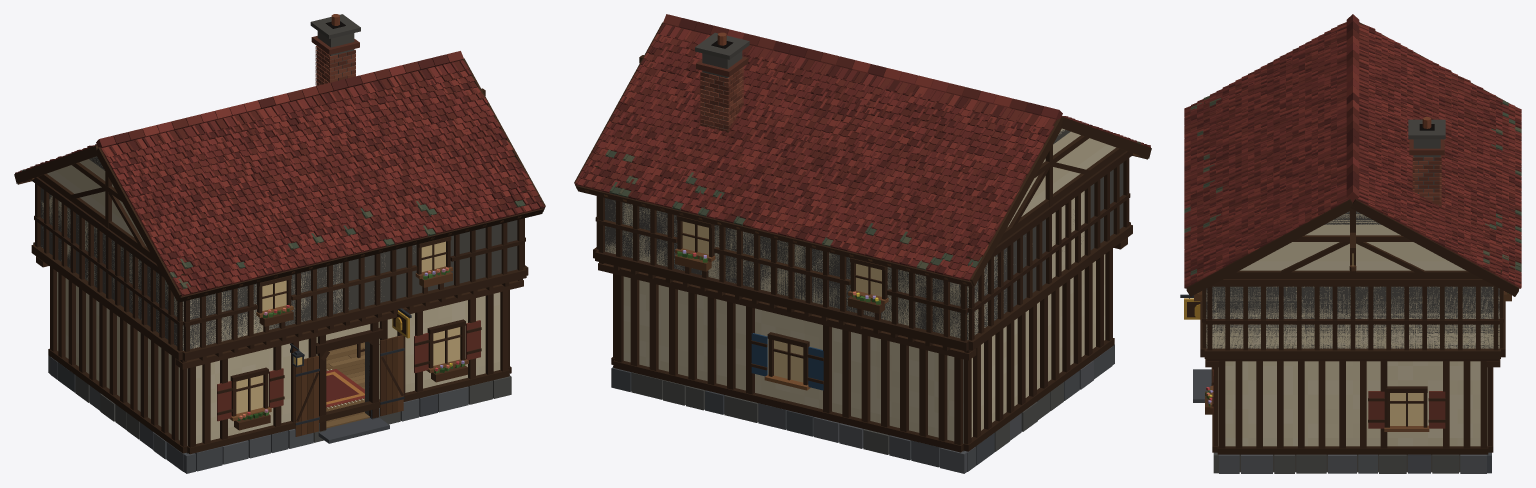
File: store.glb
The picture shows the model from 3 angles, left to right: view 1: azimuth 30°, elevation 25°; view 2: azimuth 150°, elevation 25°; view 3: azimuth 270°, elevation 25°; orthographic projection. The views are drawn at different scales.
Visible parts, largest first — view 1: store_shell, store_glass, store_interior; view 2: store_shell, store_glass; view 3: store_shell, store_glass.
Boxes of the visible parts, bbox=[...] form: store_shell: bbox=[14, 14, 545, 473]; store_glass: bbox=[236, 241, 460, 413]; store_interior: bbox=[326, 342, 369, 428]; store_shell: bbox=[574, 14, 1151, 473]; store_glass: bbox=[682, 221, 881, 382]; store_shell: bbox=[1180, 14, 1521, 473]; store_glass: bbox=[1390, 393, 1423, 425].
Size of the model in its own units: 13.37 by 10.52 by 10.13.
